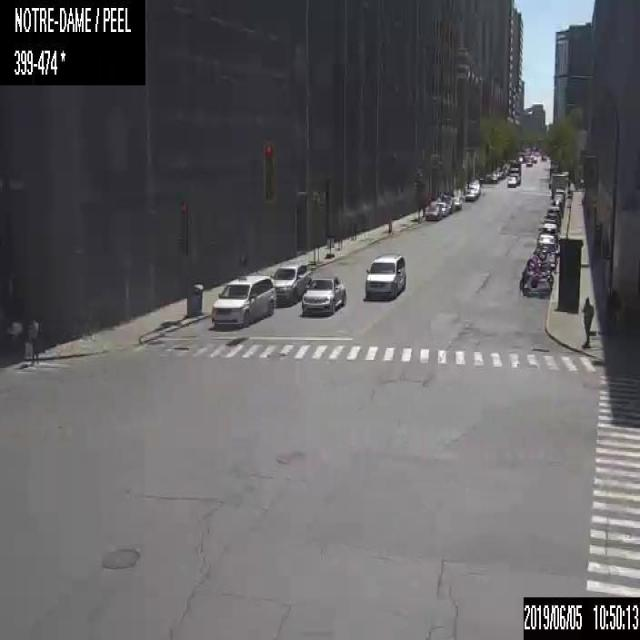construction: (326, 232, 336, 259), (388, 221, 392, 231)
pedestrian: (581, 293, 594, 348), (27, 314, 40, 362), (351, 220, 356, 238)
vehicle: (210, 274, 275, 327), (363, 250, 407, 302), (270, 260, 309, 307), (302, 276, 345, 316), (519, 268, 554, 288), (530, 253, 556, 272), (526, 257, 551, 274), (538, 222, 557, 244), (550, 172, 566, 198), (534, 244, 558, 260), (541, 217, 558, 235), (425, 203, 441, 220), (544, 212, 560, 228), (547, 206, 562, 222), (509, 162, 520, 183), (550, 200, 563, 216), (464, 188, 478, 202), (435, 201, 448, 216), (449, 196, 461, 210), (554, 187, 564, 203), (506, 176, 516, 187), (525, 160, 532, 166), (531, 156, 537, 162)
